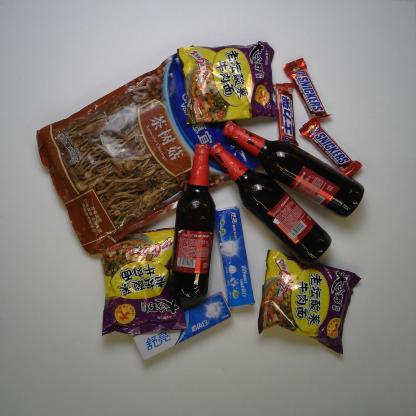Alcohol: (208, 140, 332, 266), (222, 120, 367, 218), (170, 143, 218, 298)
Chocolate: (298, 119, 362, 178), (281, 58, 328, 122), (274, 80, 300, 147)
Dried Food: (34, 43, 258, 257)
Instant Noodles: (255, 247, 363, 355), (98, 227, 190, 338), (178, 38, 281, 127)
Personal Hygiene: (133, 292, 232, 364), (213, 203, 258, 309)
